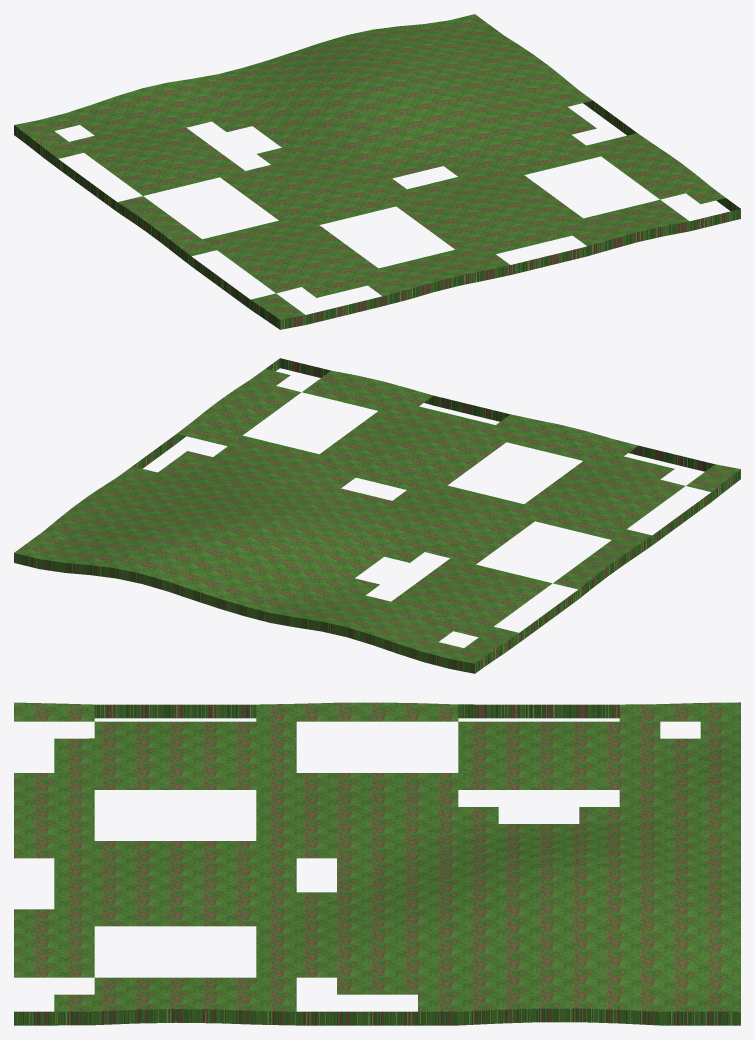
The model's file is rv_terrain_02.gltf.
The picture shows the model from 3 angles, top to bottom: view 1: azimuth 30°, elevation 25°; view 2: azimuth 150°, elevation 25°; view 3: azimuth 270°, elevation 25°; orthographic projection. The views are drawn at different scales.
Visible parts, largest first — view 1: RV_Terrain_02; view 2: RV_Terrain_02; view 3: RV_Terrain_02.
Boxes of the visible parts, bbox=[...] form: RV_Terrain_02: bbox=[14, 14, 740, 329]; RV_Terrain_02: bbox=[14, 358, 740, 673]; RV_Terrain_02: bbox=[14, 702, 740, 1025].
Size of the model in its own units: 72 by 4.34 by 72.
Materials: 2 (1 with a texture image).
